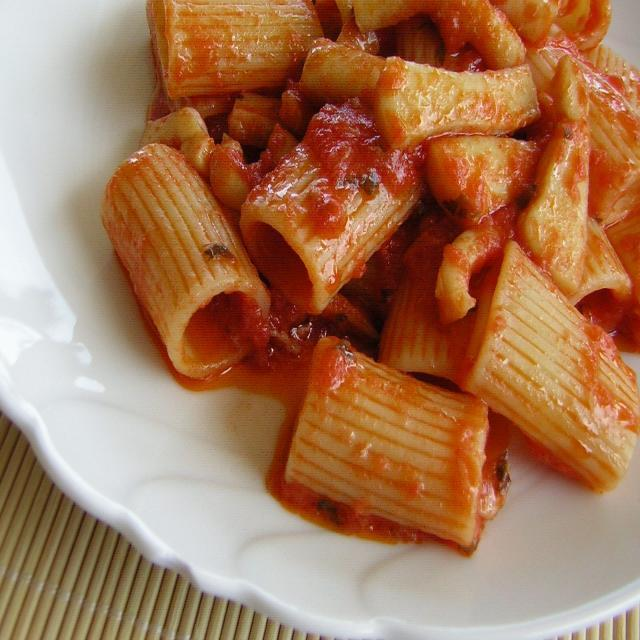Pasta al ragu: (108, 3, 636, 547)
